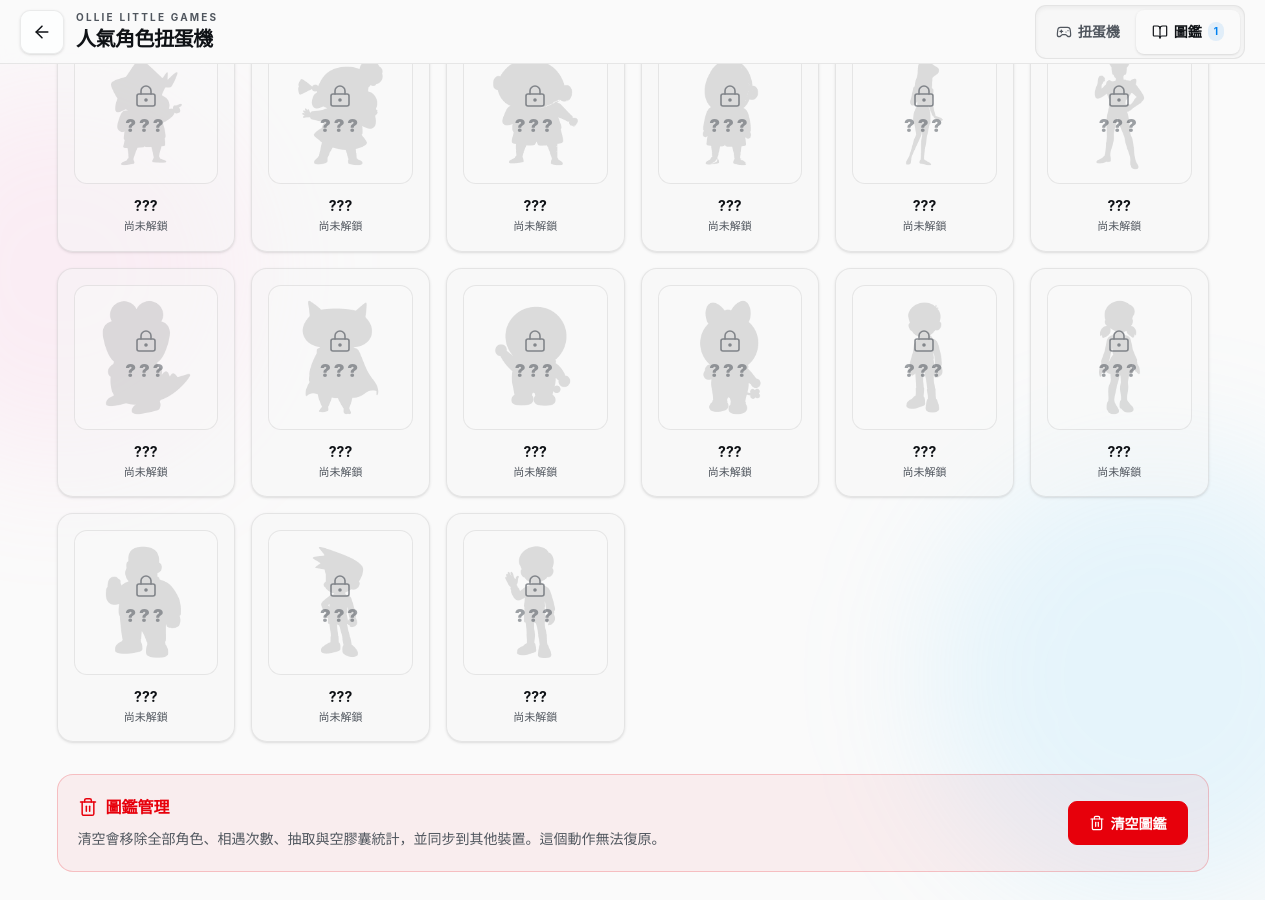
GachaMachine collection reset › keeps the existing collection when cloud reset fails
(page scrolled)
Step 1. Click the button "清空圖鑑" → [1128, 823], box [1068,801,1188,845]
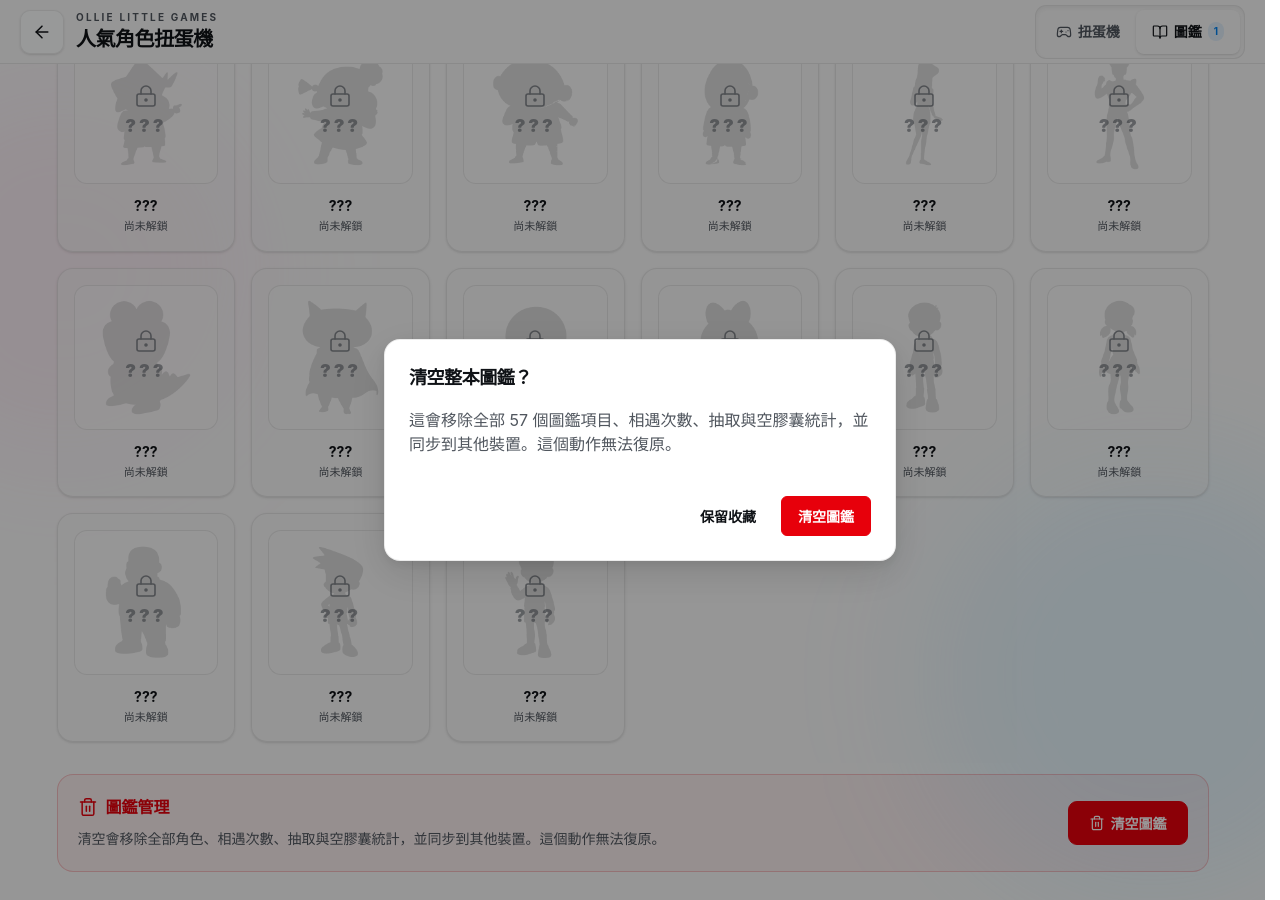
Step 2. Click the button "清空圖鑑" → [826, 516], box [781,496,871,536]
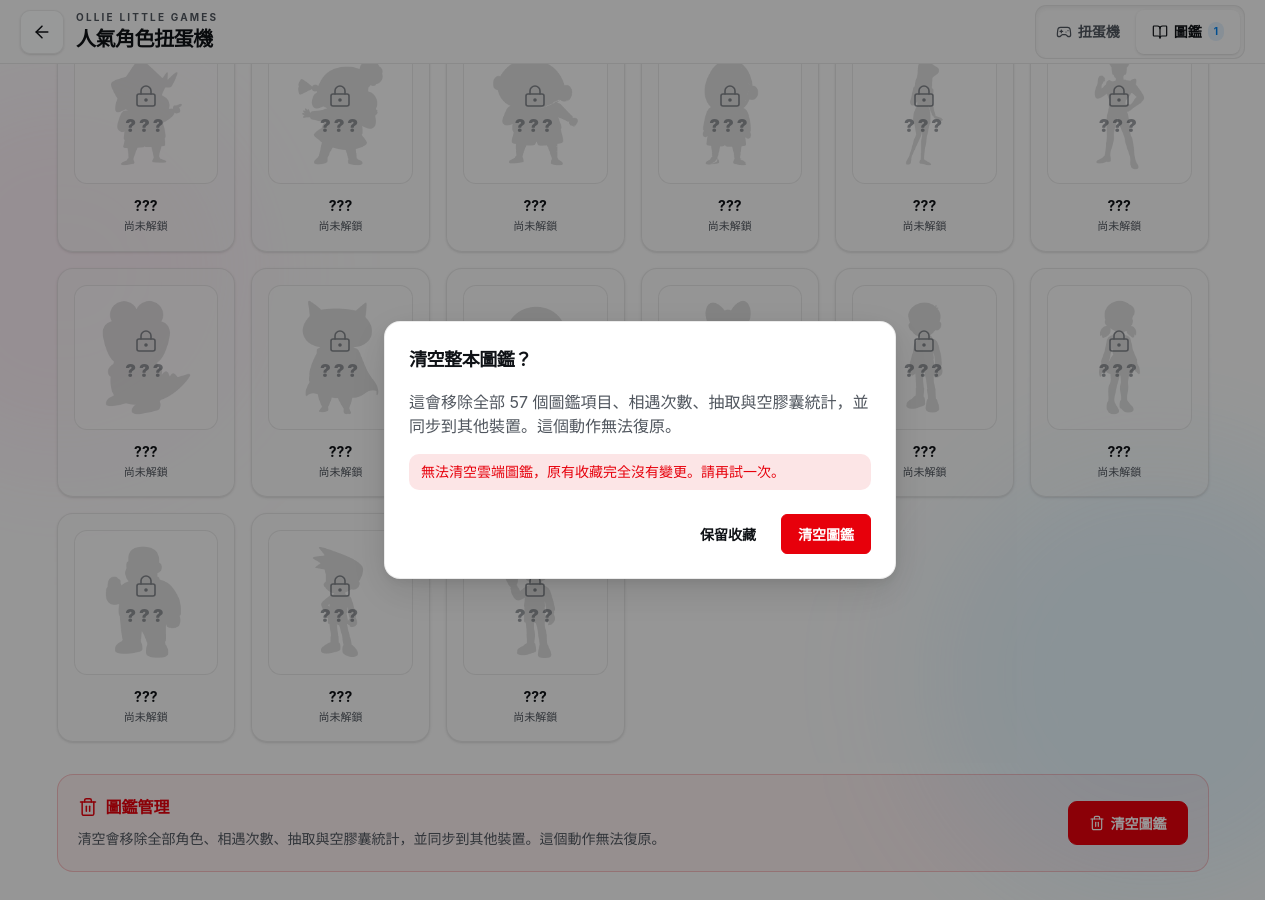
Expected: the dialog shows "原有收藏完全沒有變更", [421,463,785,480]
